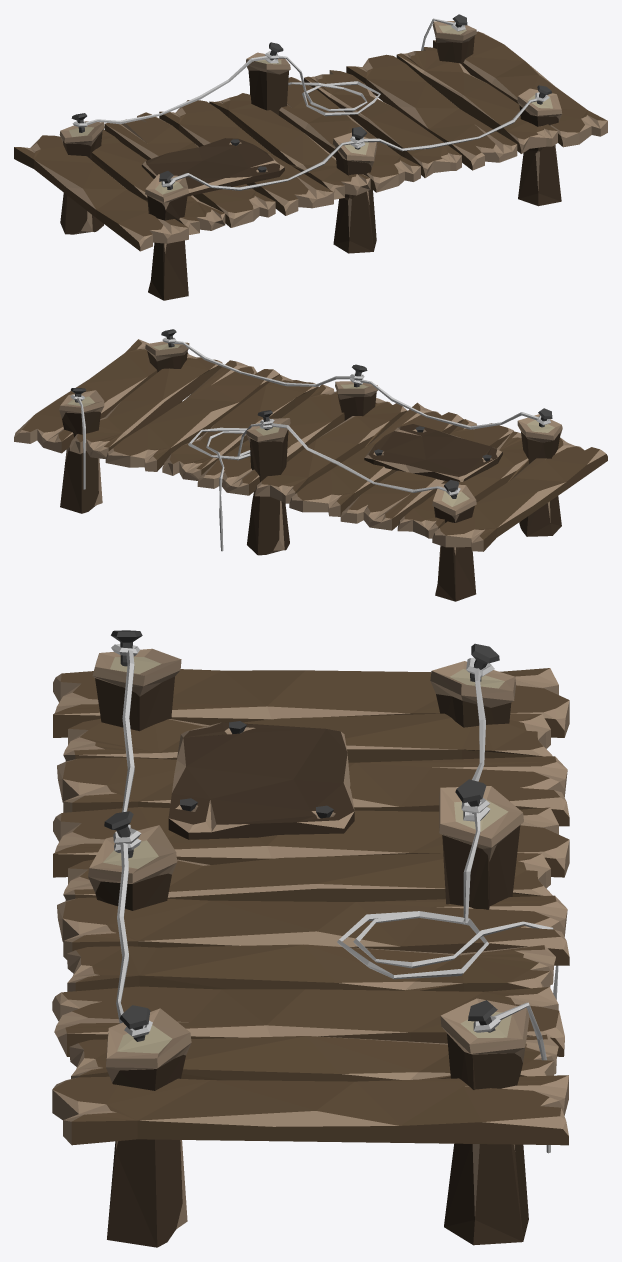
File: Timber_Bridge_02.FBX
3 views of the same model, one above another, from view 1: azimuth 30°, elevation 25°; view 2: azimuth 150°, elevation 25°; view 3: azimuth 270°, elevation 25° (orthographic). The views are drawn at different scales.
Parts seen in each view (by area): view 1: Timber_Bridge_02; view 2: Timber_Bridge_02; view 3: Timber_Bridge_02.
Part boxes in pixels (x1=…): Timber_Bridge_02: x1=14, y1=14, x2=607, y2=300; Timber_Bridge_02: x1=14, y1=329, x2=607, y2=601; Timber_Bridge_02: x1=52, y1=630, x2=569, y2=1247.
Size of the model in its own units: 8.3 by 2.29 by 3.98.
